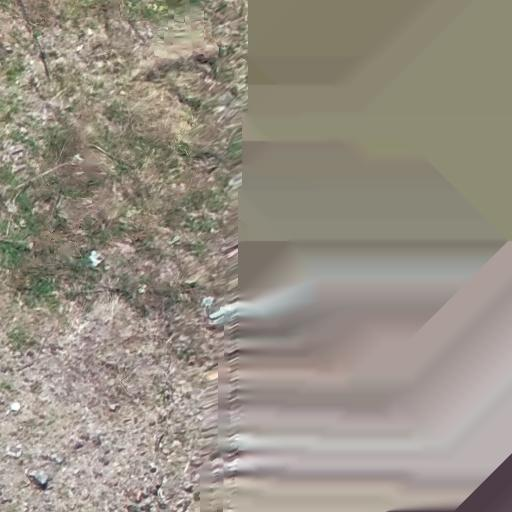stone: (32, 471, 51, 489), (183, 480, 194, 493), (80, 488, 90, 501), (108, 402, 120, 412)
